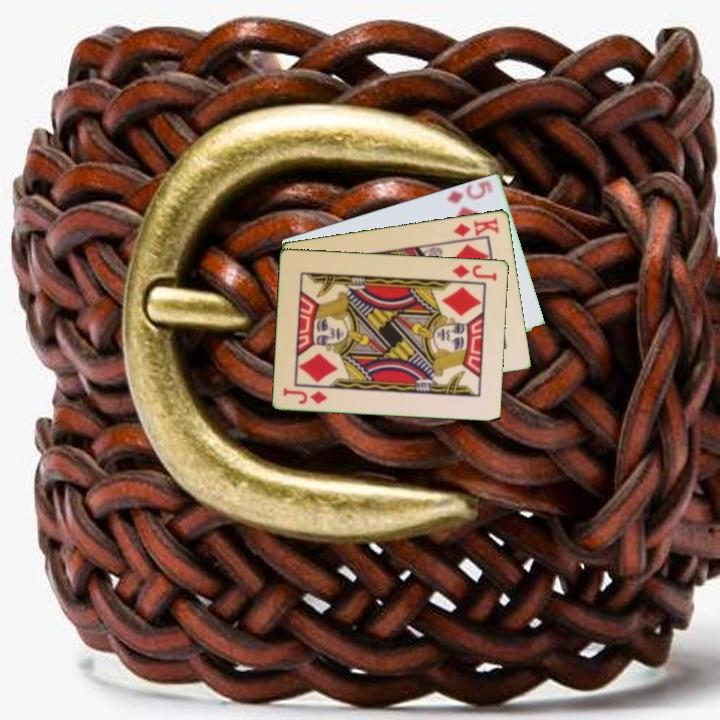5d: (443, 177, 496, 206)
Jd: (449, 260, 500, 283), (280, 384, 330, 407)
Kd: (450, 214, 502, 240)
